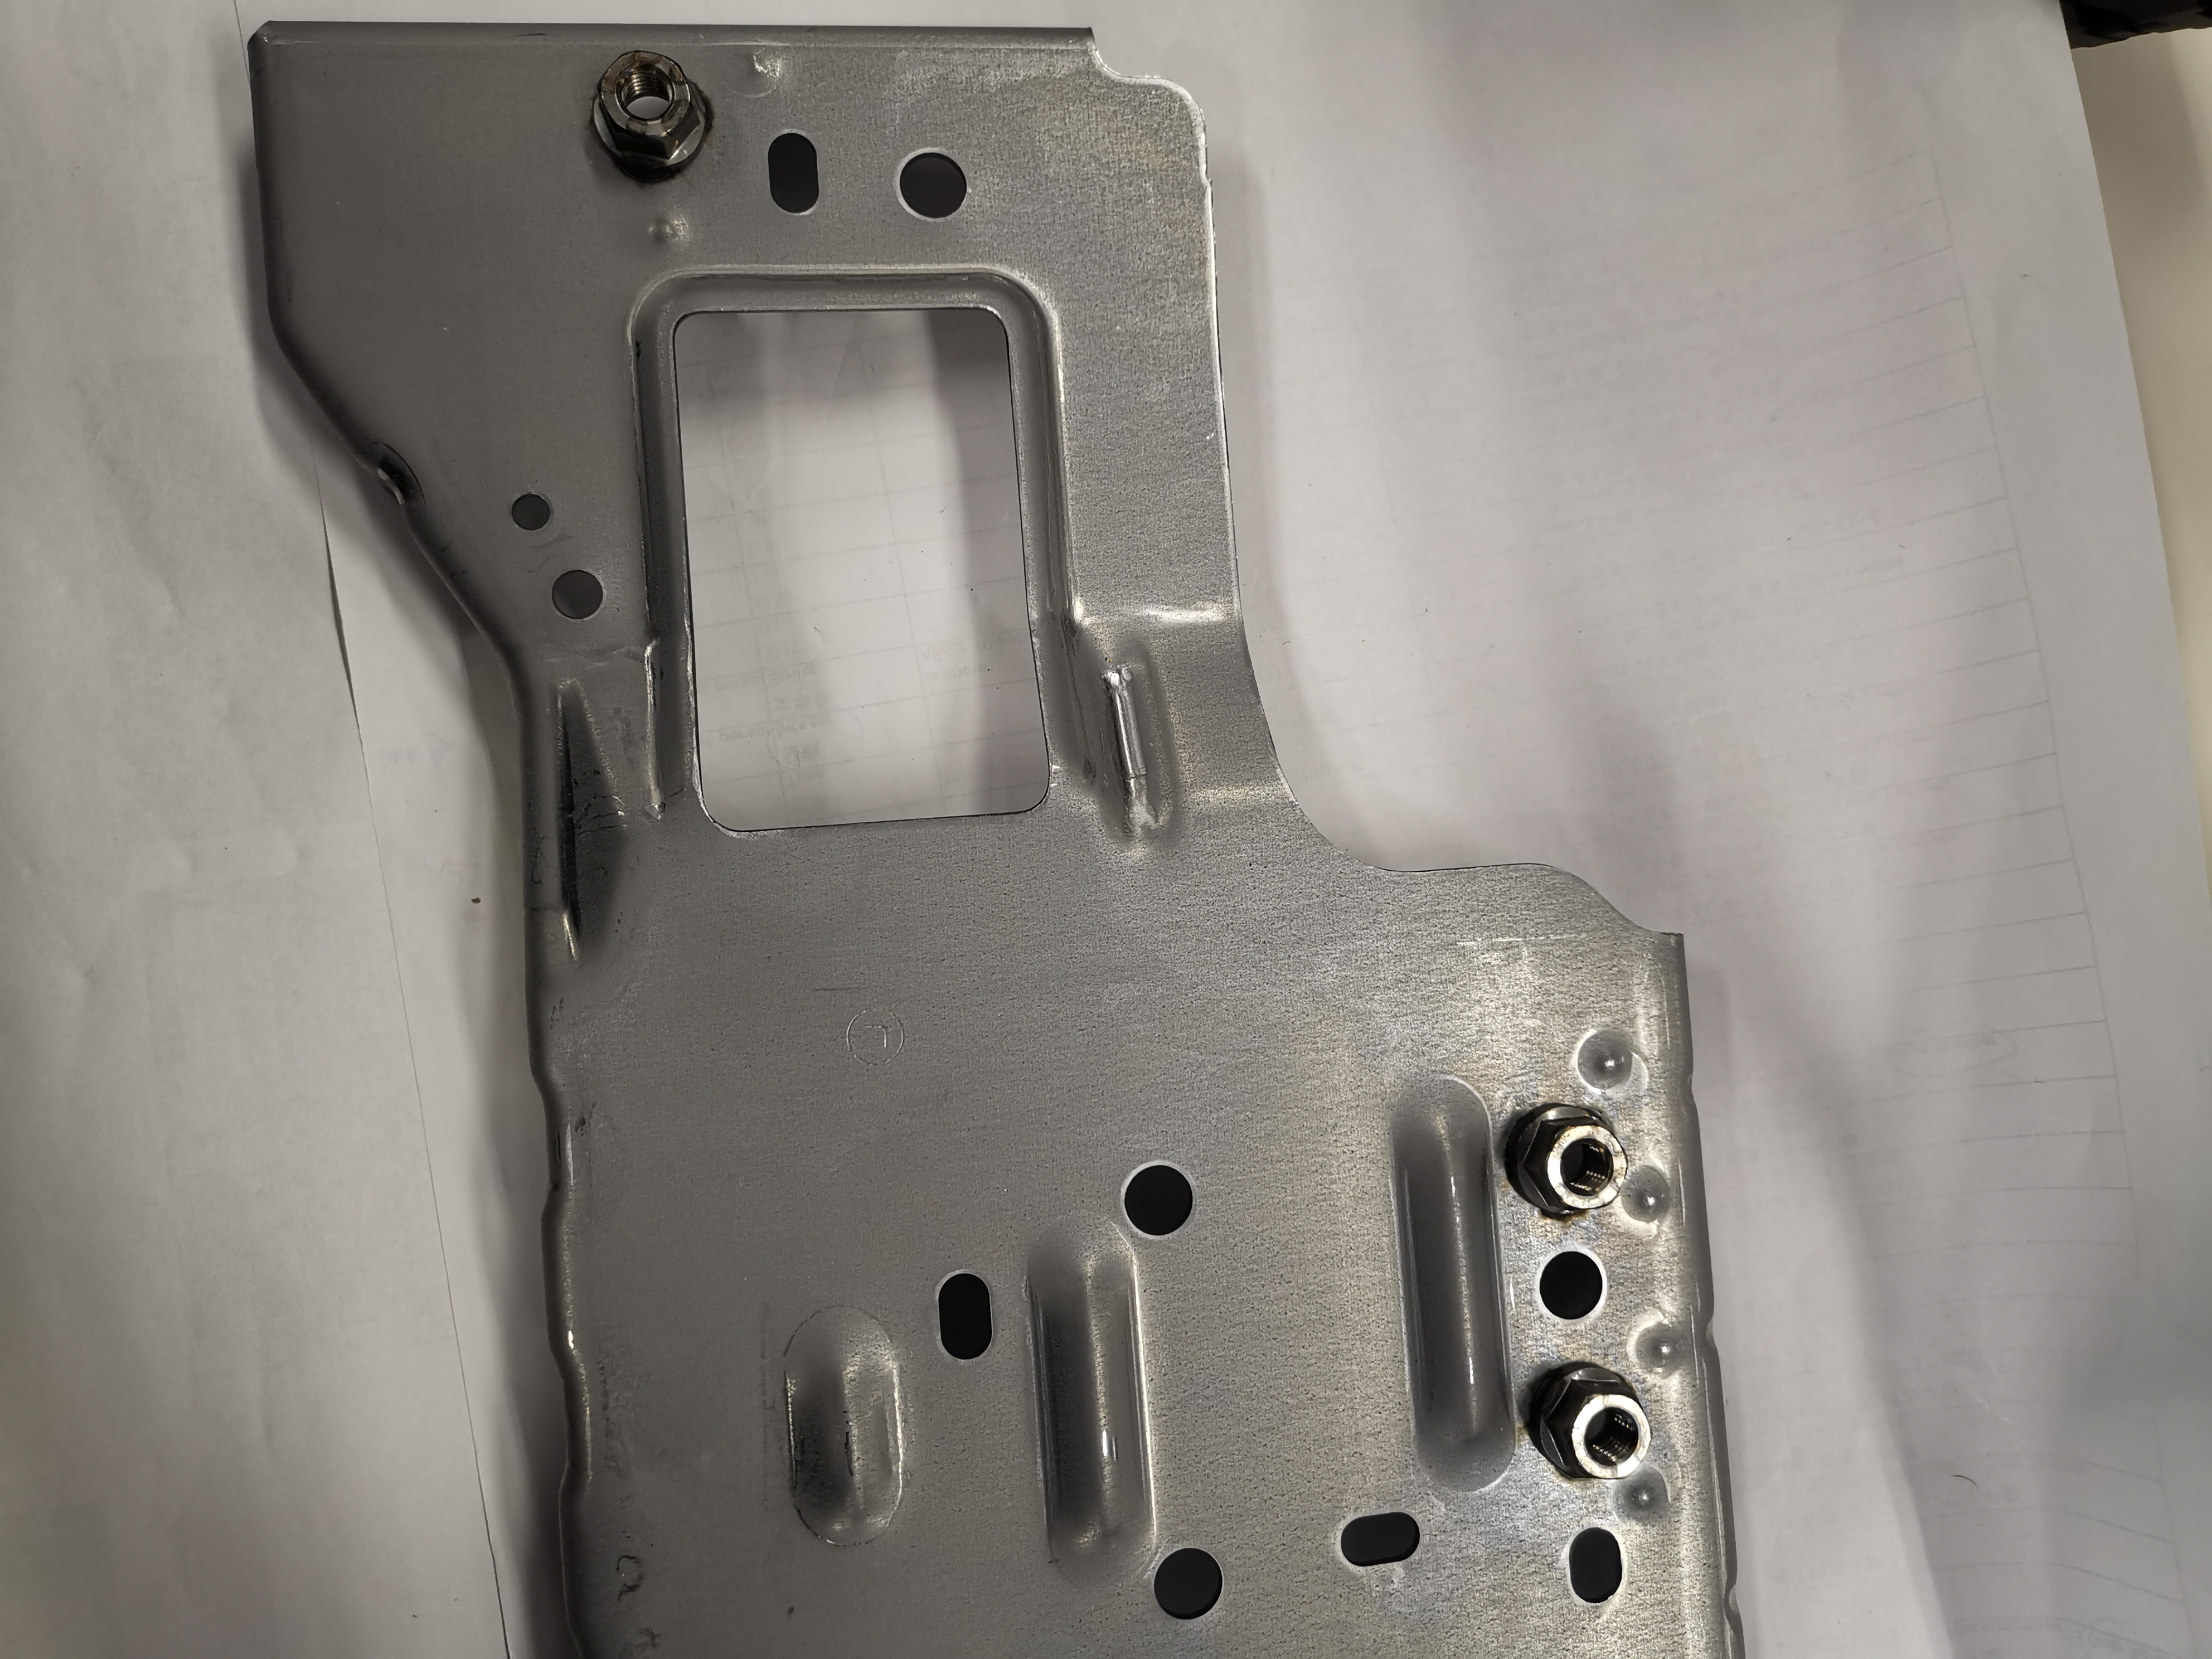dog: (583, 49, 718, 185), (1524, 1354, 1658, 1486), (1498, 1093, 1635, 1222)
